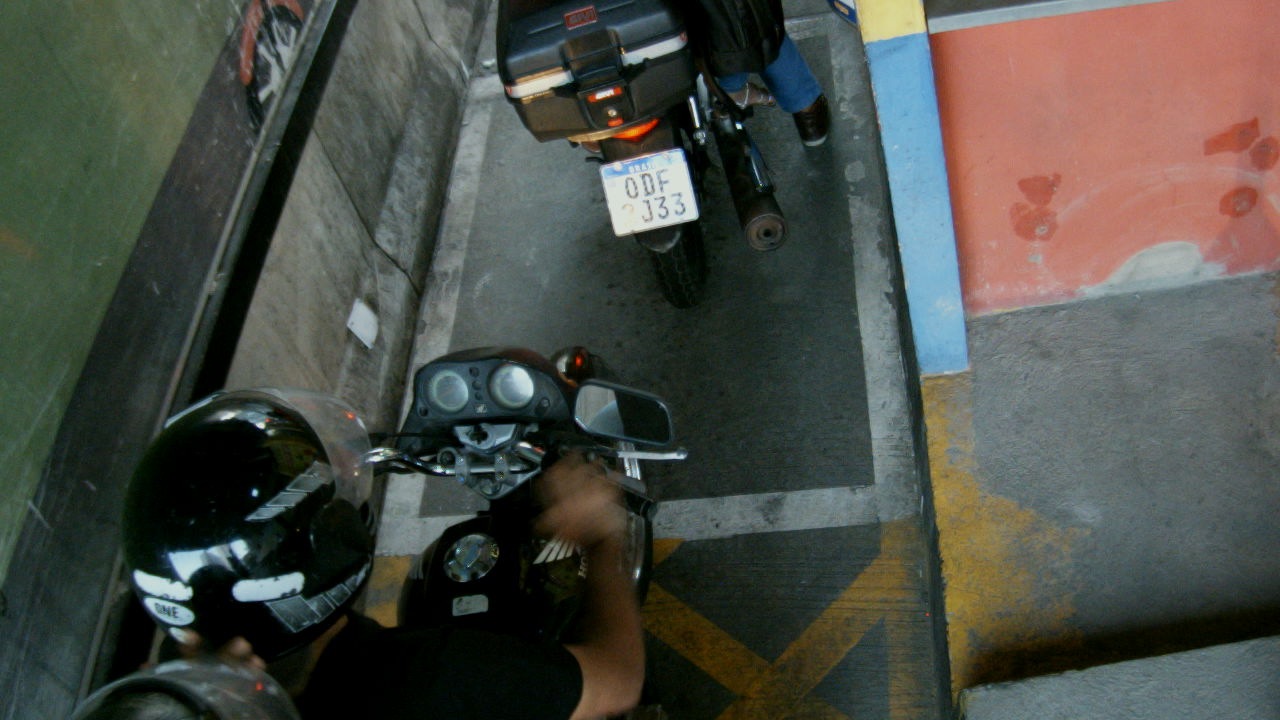placa: (598, 148, 700, 238)
